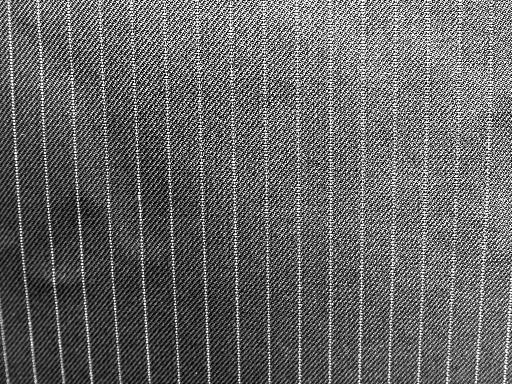fabric_perfect: (4, 2, 512, 378)
